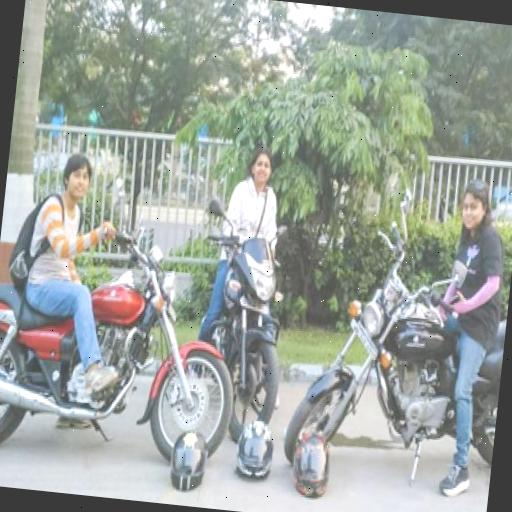no helmet: (305, 113, 512, 469), (0, 122, 197, 477), (184, 106, 310, 429)
